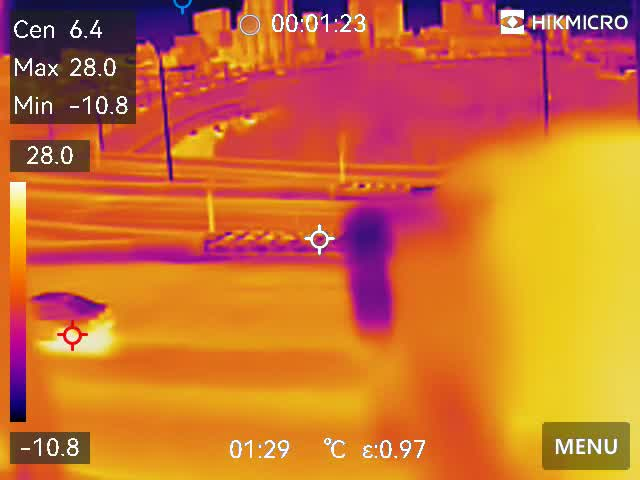smallCar: (25, 287, 117, 350)
